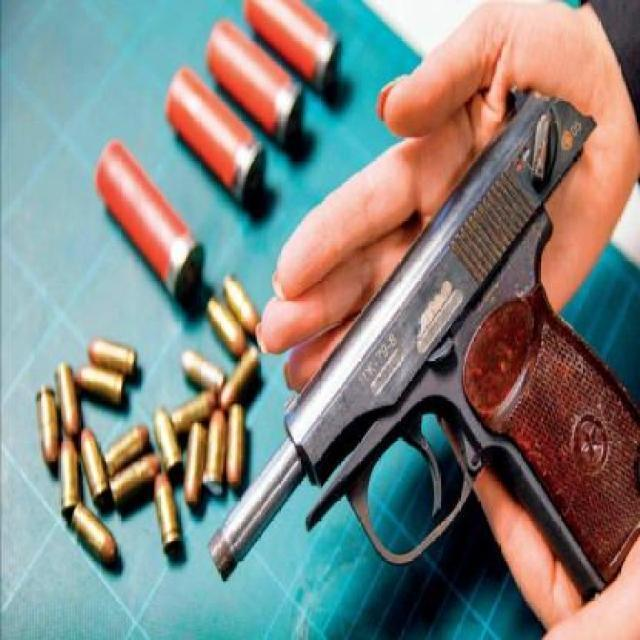Handgun: (198, 80, 640, 603)
